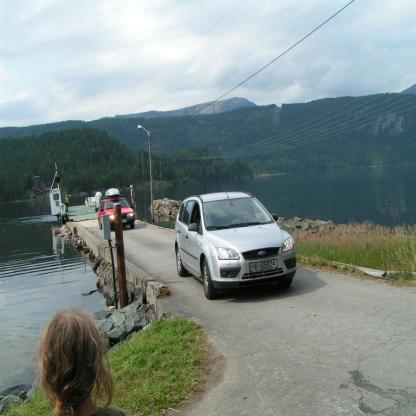Car: (174, 183, 297, 300), (96, 197, 136, 228)
